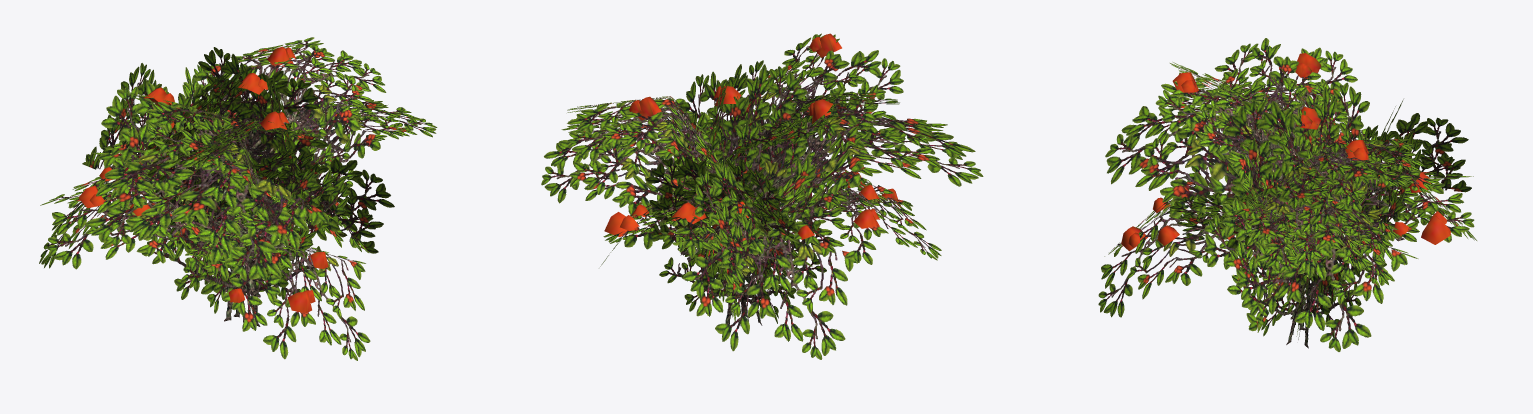
File: berry_bush_1.glb
3 renders of one model, left to right at view 1: azimuth 30°, elevation 25°; view 2: azimuth 150°, elevation 25°; view 3: azimuth 270°, elevation 25°, orthographic. The views are drawn at different scales.
Visible parts, largest first — view 1: berry_bush_1; view 2: berry_bush_1; view 3: berry_bush_1.
Part boxes in pixels (<box>): berry_bush_1: <box>39,37,437,360</box>; berry_bush_1: <box>541,33,983,359</box>; berry_bush_1: <box>1098,38,1476,351</box>.
Size of the model in its own units: 4.78 by 3.07 by 4.25.
Materials: 1 (1 with a texture image).
